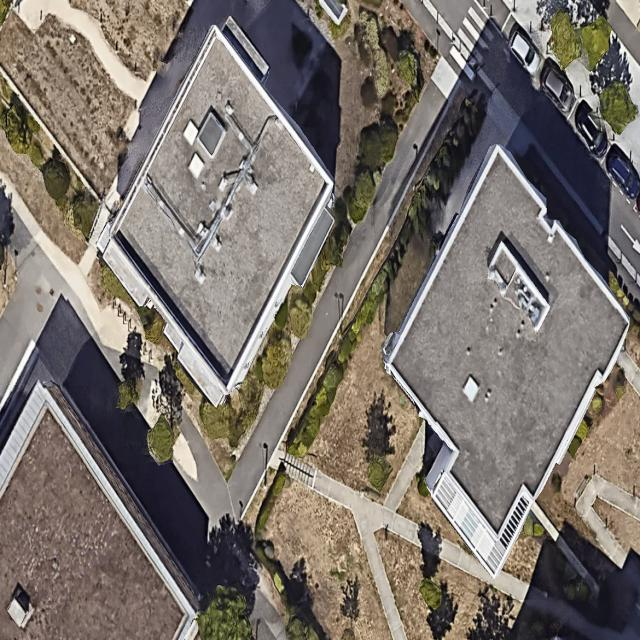immeuble: (309, 140, 640, 578), (51, 9, 399, 415), (0, 413, 182, 639)
